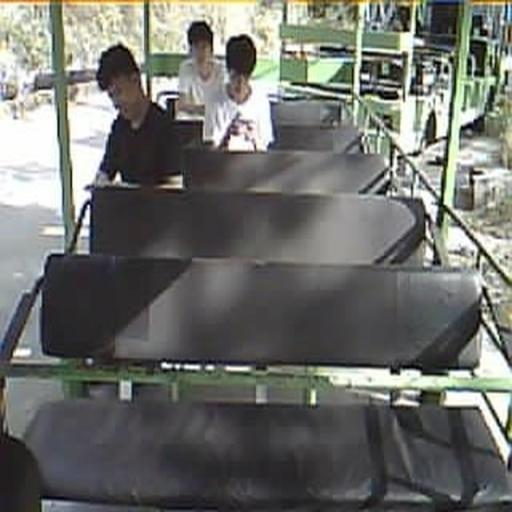persona: (90, 42, 181, 188), (202, 33, 276, 153), (177, 20, 228, 117)
